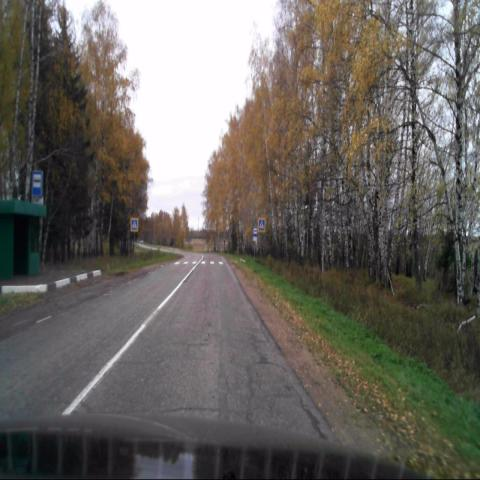5_16: (32, 171, 43, 198)
